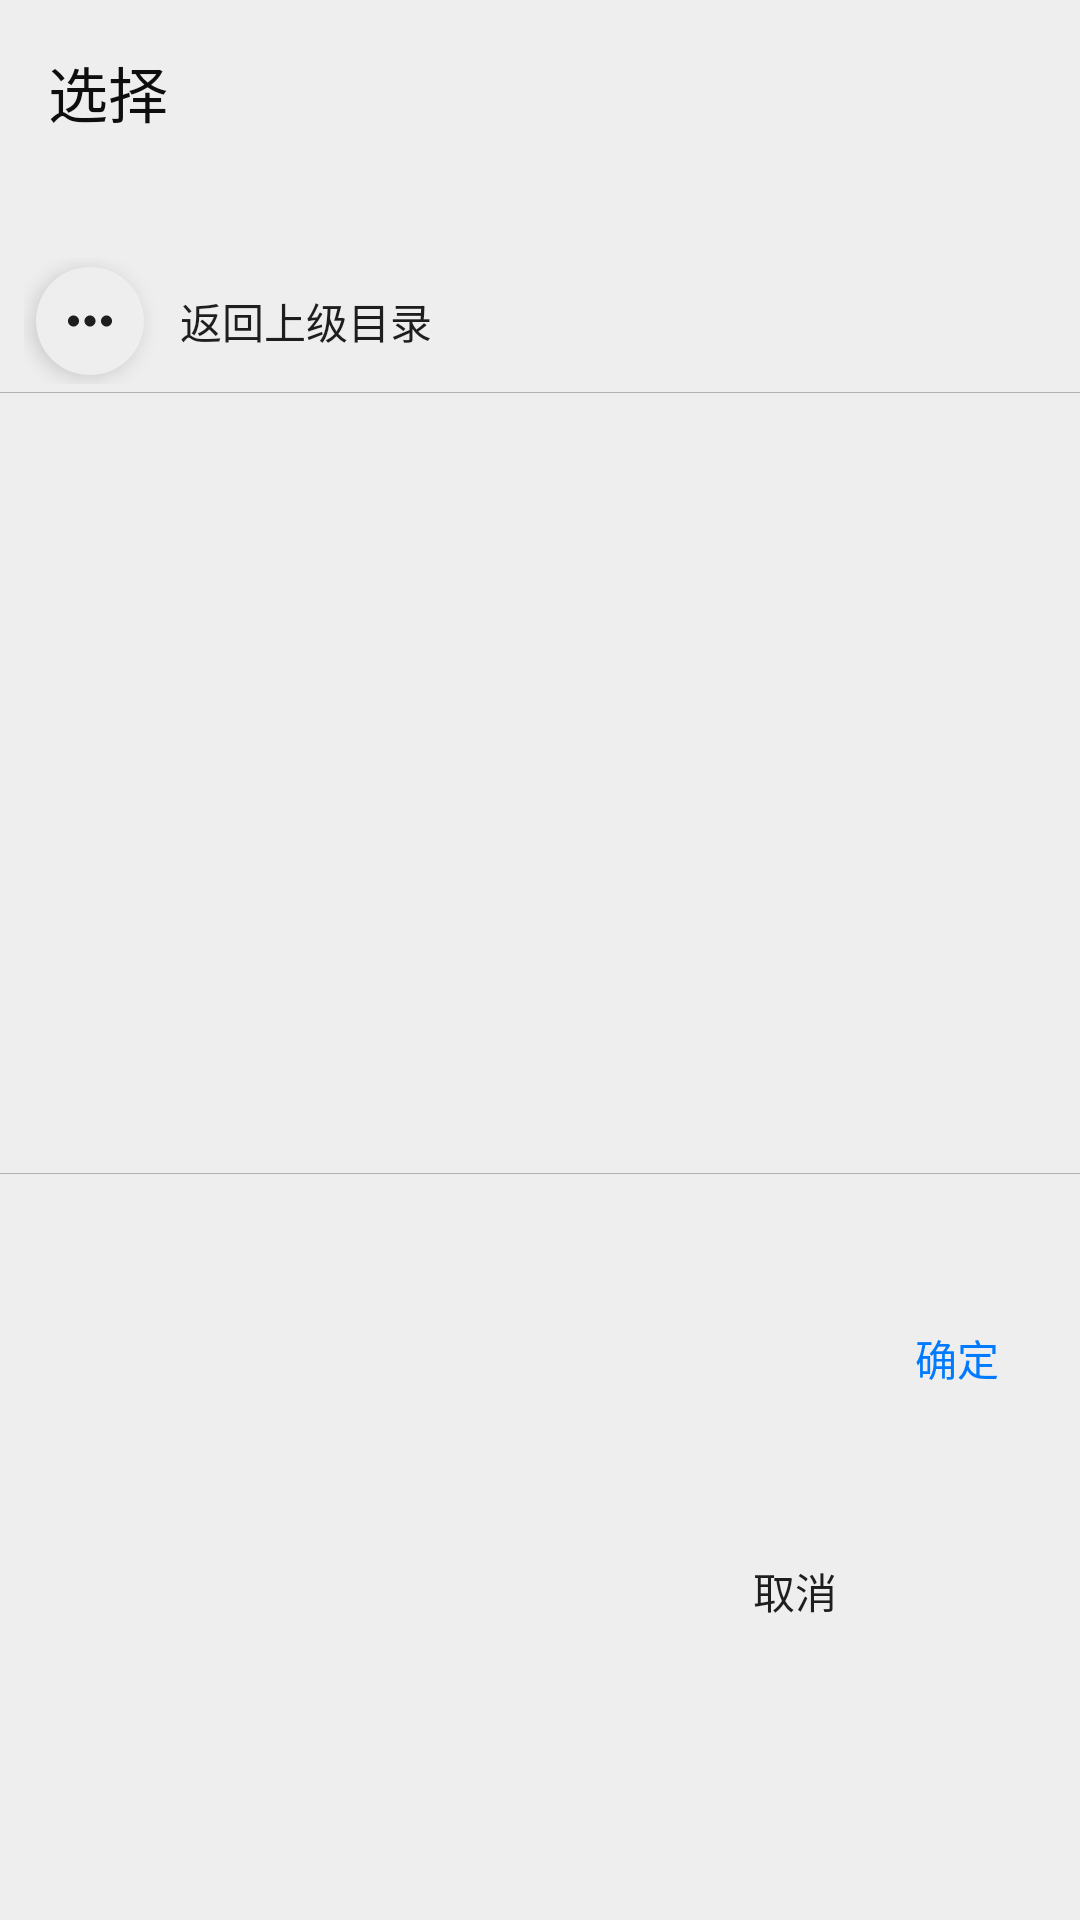

Icons on this 1080x1920 Android screen, each with the point to tap as (x,y):
more: (90,321)
